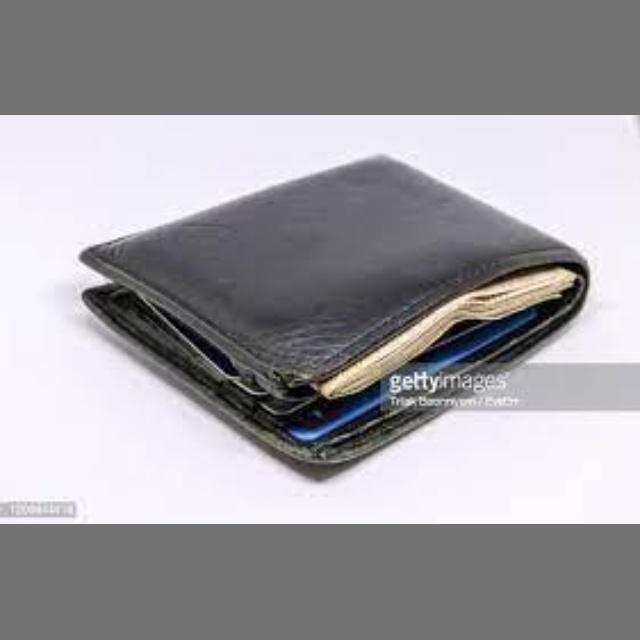Wallet: (81, 144, 594, 480)
